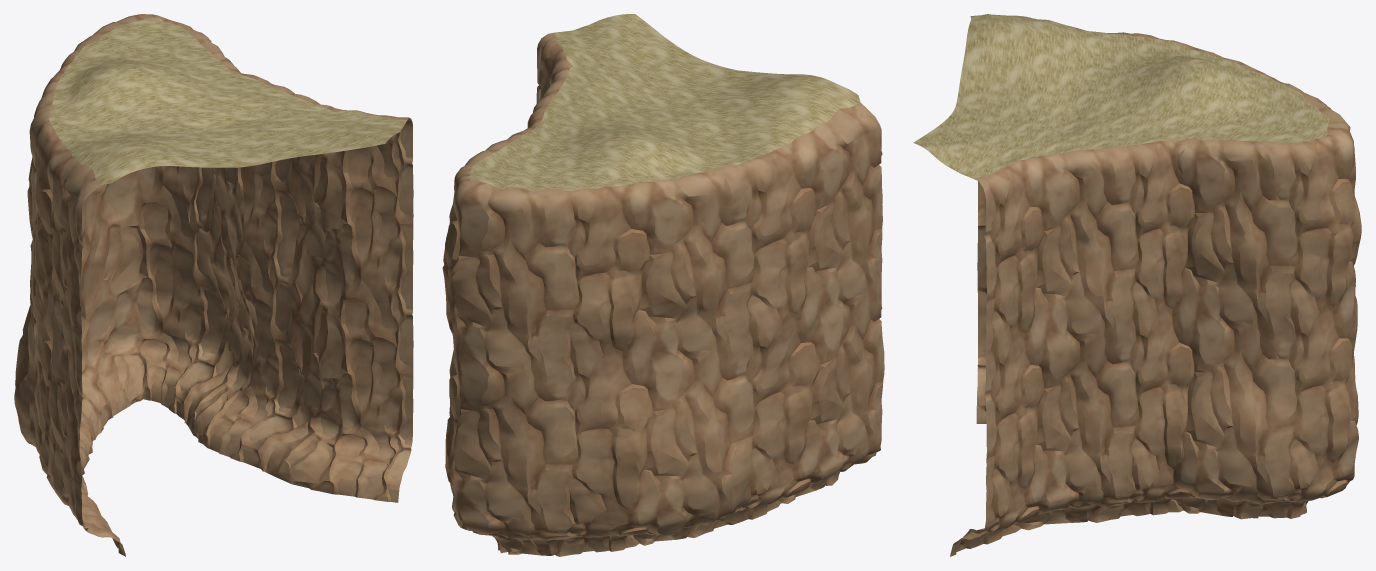
File: SM_ENV_KNFRST_Cliff_Gb.FBX
The picture shows the model from 3 angles, left to right: view 1: azimuth 30°, elevation 25°; view 2: azimuth 150°, elevation 25°; view 3: azimuth 270°, elevation 25°; orthographic projection. The views are drawn at different scales.
Visible parts, largest first — view 1: SM_ENV_KNFRST_Cliff_Gb; view 2: SM_ENV_KNFRST_Cliff_Gb; view 3: SM_ENV_KNFRST_Cliff_Gb.
Part boxes in pixels (bbox=[...]): SM_ENV_KNFRST_Cliff_Gb: bbox=[14, 14, 413, 556]; SM_ENV_KNFRST_Cliff_Gb: bbox=[442, 14, 884, 556]; SM_ENV_KNFRST_Cliff_Gb: bbox=[913, 14, 1361, 556].
Bounding box in the file's own units: 3825 × 4226 × 4179.
